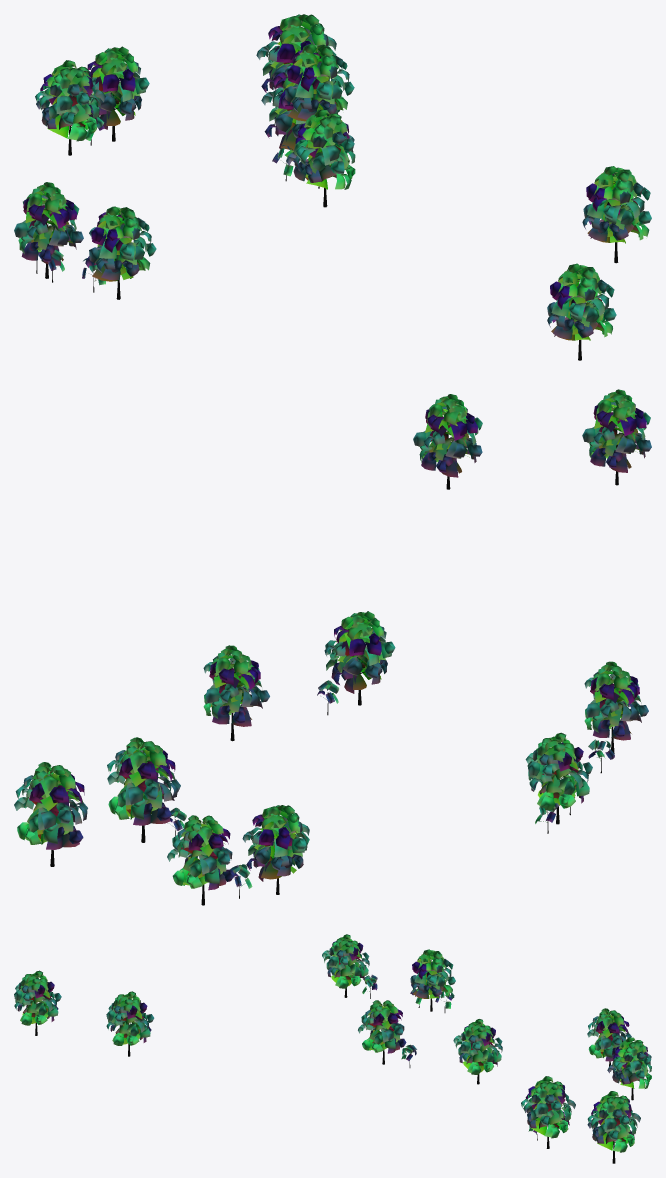
File: Trees.fbx
The picture shows the model from 3 angles, top to bottom: view 1: azimuth 30°, elevation 25°; view 2: azimuth 150°, elevation 25°; view 3: azimuth 270°, elevation 25°; orthographic projection. The views are drawn at different scales.
Parts seen in each view (by area): view 1: Tree_18, Tree_19, Tree_15, Tree_3, Tree_12, Tree_7, Tree_6, Tree_4, Tree_11, Tree_10; view 2: Tree_10, Tree_11, Tree_15, Tree_19, Tree_18, Tree_12, Tree_3, Tree_4, Tree_6, Tree_7; view 3: Tree_11, Tree_10, Tree_12, Tree_18, Tree_19, Tree_15, Tree_7, Tree_6, Tree_4, Tree_3.
Part boxes in pixels (x1,y1,x2,y2): Tree_18: [547, 263, 616, 360]; Tree_19: [582, 166, 651, 263]; Tree_15: [286, 109, 355, 207]; Tree_3: [35, 60, 105, 155]; Tree_12: [281, 44, 354, 121]; Tree_7: [85, 206, 156, 299]; Tree_6: [14, 182, 83, 278]; Tree_4: [87, 46, 149, 141]; Tree_11: [256, 14, 336, 94]; Tree_10: [261, 65, 341, 152]; Tree_10: [107, 737, 180, 842]; Tree_11: [14, 762, 87, 866]; Tree_15: [324, 611, 395, 705]; Tree_19: [413, 394, 482, 489]; Tree_18: [582, 389, 651, 485]; Tree_12: [203, 645, 269, 741]; Tree_3: [242, 805, 309, 894]; Tree_4: [167, 815, 234, 905]; Tree_6: [525, 732, 592, 824]; Tree_7: [584, 661, 648, 753]; Tree_11: [587, 1091, 640, 1163]; Tree_10: [521, 1076, 575, 1148]; Tree_12: [453, 1019, 502, 1084]; Tree_18: [14, 970, 61, 1035]; Tree_19: [106, 991, 154, 1056]; Tree_15: [358, 1000, 406, 1064]; Tree_7: [322, 934, 369, 997]; Tree_6: [410, 949, 455, 1011]; Tree_4: [607, 1037, 651, 1100]; Tree_3: [587, 1008, 631, 1071].
Bounding box in the file's own units: 4927 × 2388 × 8929.
